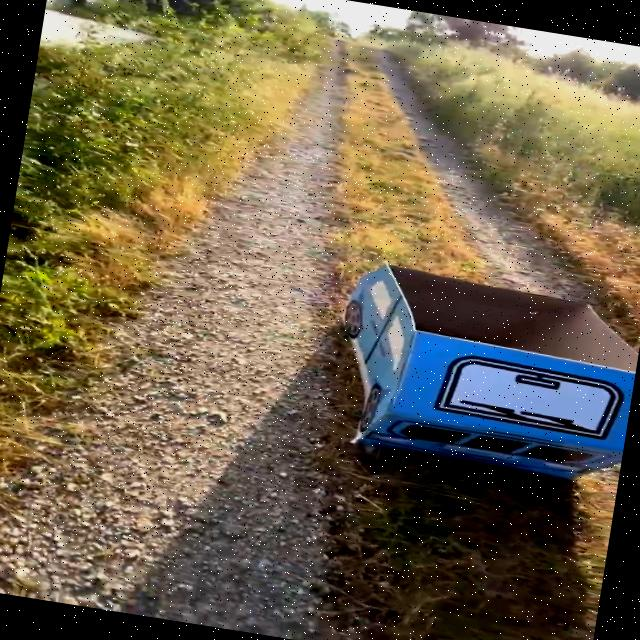blue_car: (261, 243, 640, 518)
